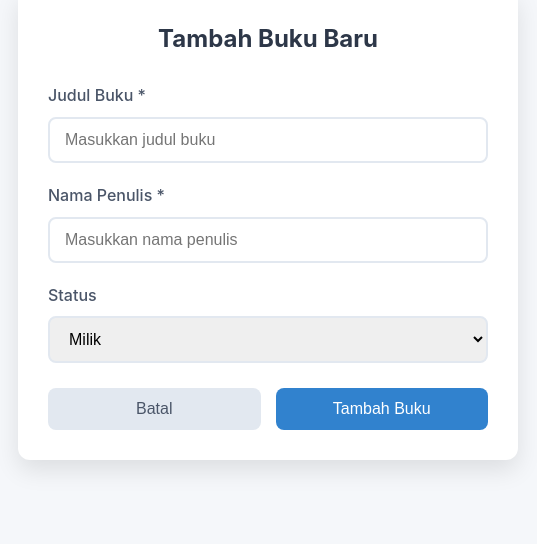
it: BookForm Component › shows validation errors when submitting empty form
Click the button "Tambah Buku" at (382, 409), box [276,388,488,430]
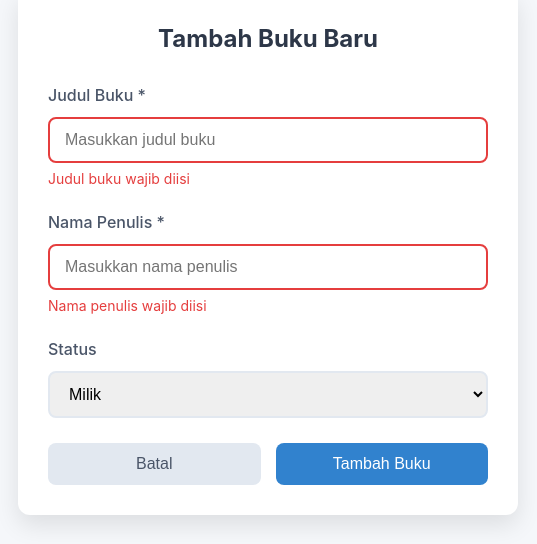
Now the text "Judul buku wajib diisi" is shown, box [48,170,190,187]
Now the text "Nama penulis wajib diisi" is shown, box [48,297,207,314]
